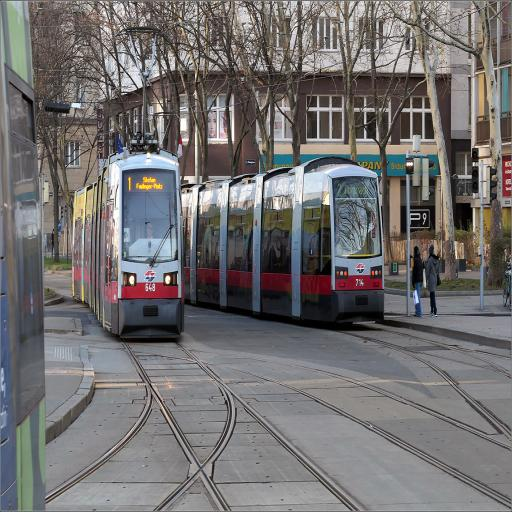ULF: (185, 156, 388, 326), (72, 152, 186, 337)
